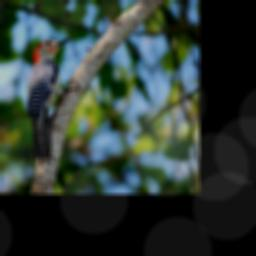Woodpecker: (27, 37, 80, 166)
